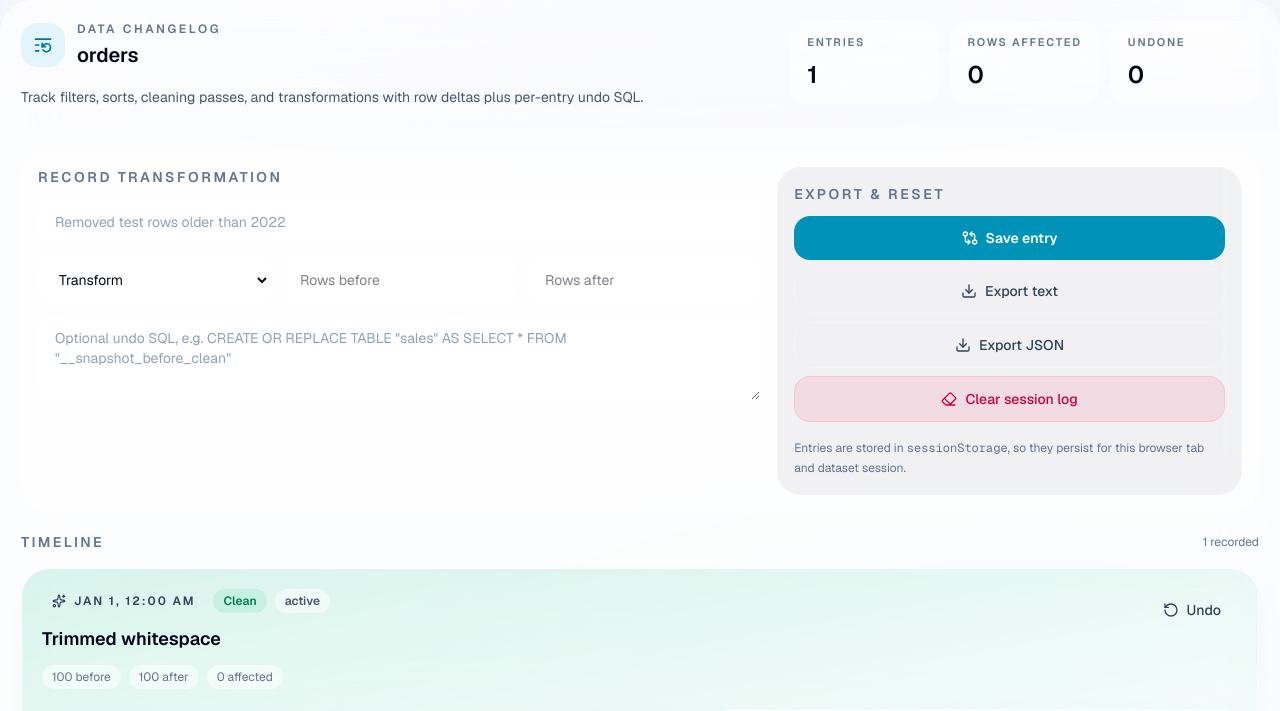
it: DataChangelog › clears the current session timeline
Click the button "Clear session log" at {"x": 1010, "y": 399}, box [794, 376, 1225, 422]
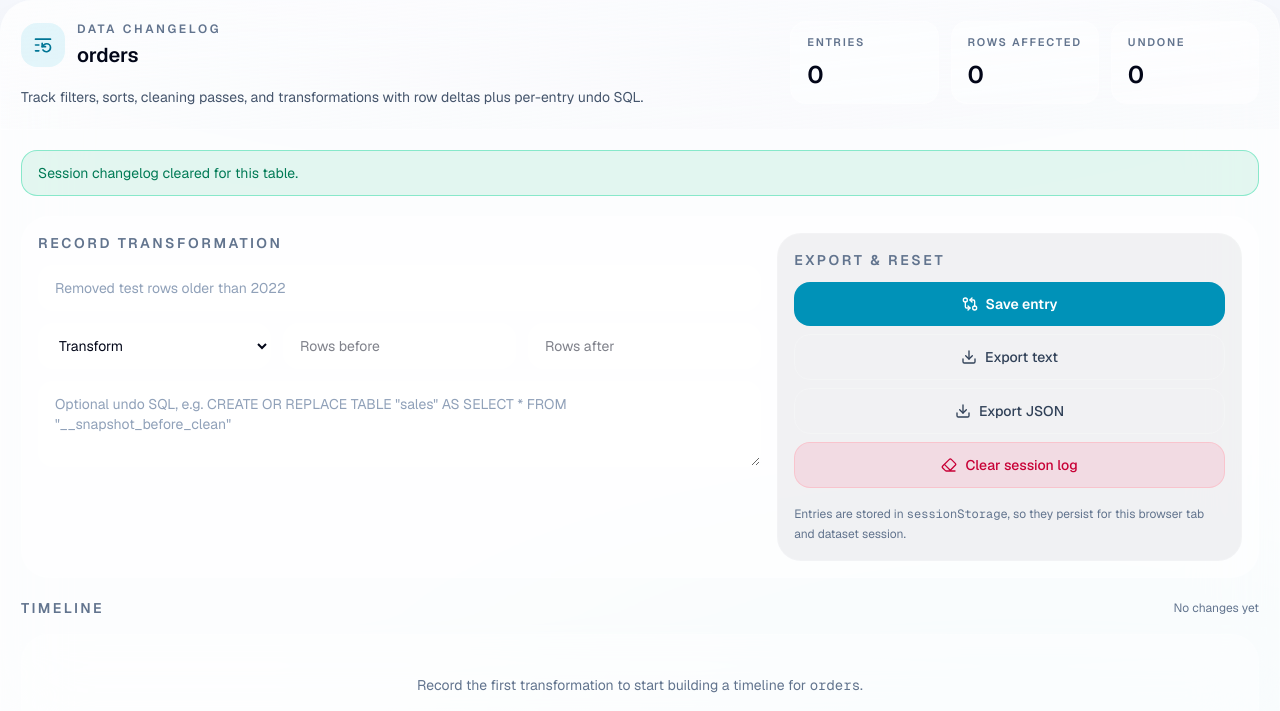
Now the text "Session changelog cleared for this table." is shown, box [21, 150, 1259, 196]
Now the text "No changes yet" is shown, box [1174, 600, 1259, 616]
